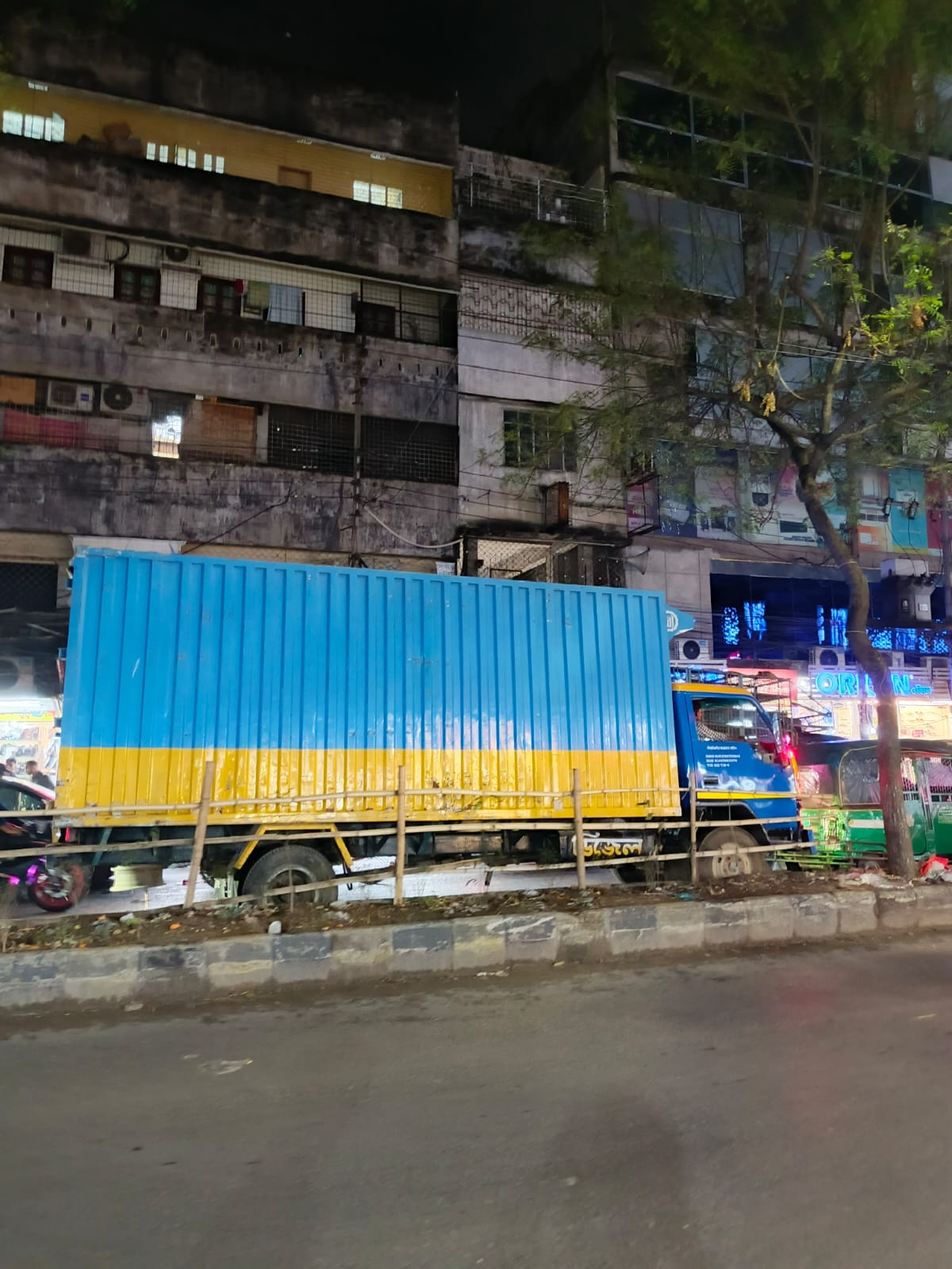Truck: (32, 529, 807, 933)
